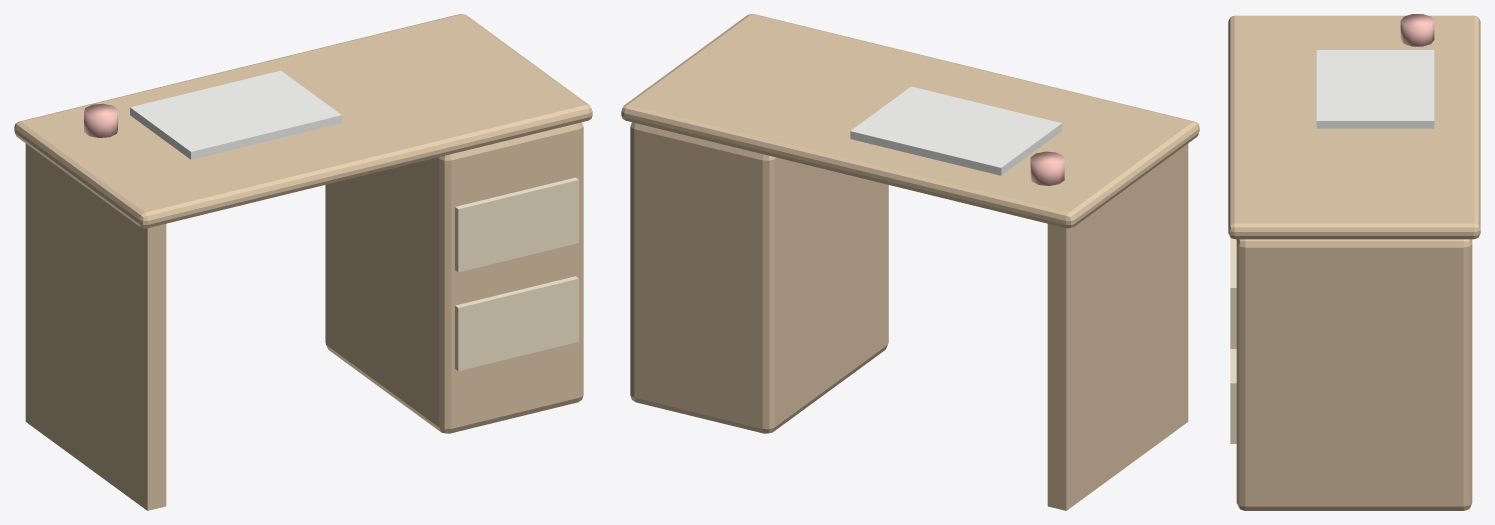
The model's file is escrivaninha.glb.
3 renders of one model, left to right at view 1: azimuth 30°, elevation 25°; view 2: azimuth 150°, elevation 25°; view 3: azimuth 270°, elevation 25°, orthographic. The views are drawn at different scales.
Visible parts, largest first — view 1: escrivaninha; view 2: escrivaninha; view 3: escrivaninha.
Boxes of the visible parts, x1,y1,x2,y2 form: escrivaninha: (14, 14, 592, 510); escrivaninha: (621, 14, 1199, 510); escrivaninha: (1228, 14, 1480, 510).
Size of the model in its own units: 1.2 by 0.81 by 0.6.
